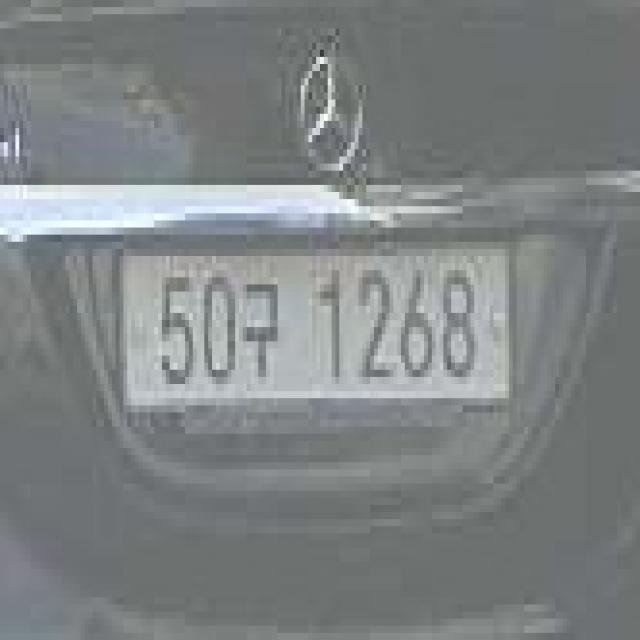0: (200, 276, 242, 388)
1: (311, 270, 346, 390)
2: (354, 264, 397, 394)
5: (152, 270, 198, 390)
6: (398, 262, 436, 400)
8: (440, 267, 478, 393)
gu: (242, 274, 282, 386)
license_plate: (100, 217, 518, 426)
